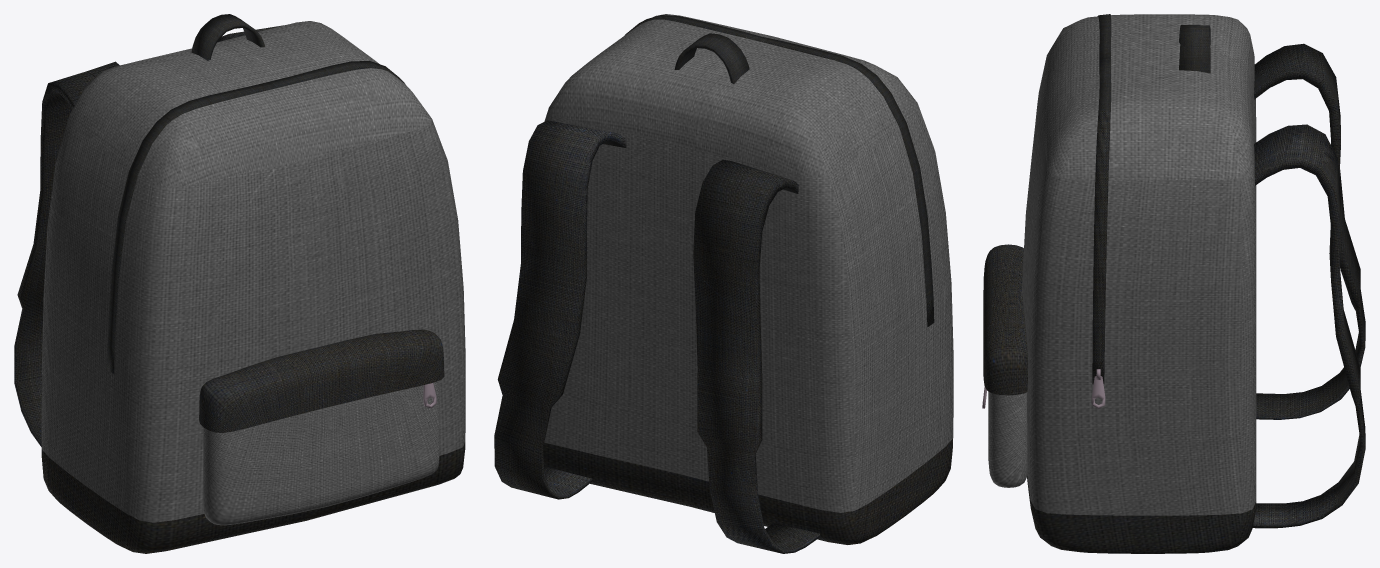
The model's file is Backpack.fbx.
3 views of the same model, side by side, from view 1: azimuth 30°, elevation 25°; view 2: azimuth 150°, elevation 25°; view 3: azimuth 270°, elevation 25° (orthographic).
Parts seen in each view (by area): view 1: Backpack; view 2: Backpack; view 3: Backpack.
Part boxes in pixels (x1,y1,x2,y2): Backpack: (14, 14, 465, 553); Backpack: (494, 14, 953, 553); Backpack: (982, 14, 1365, 553).
Bounding box in the file's own units: 203 × 253 × 197.
